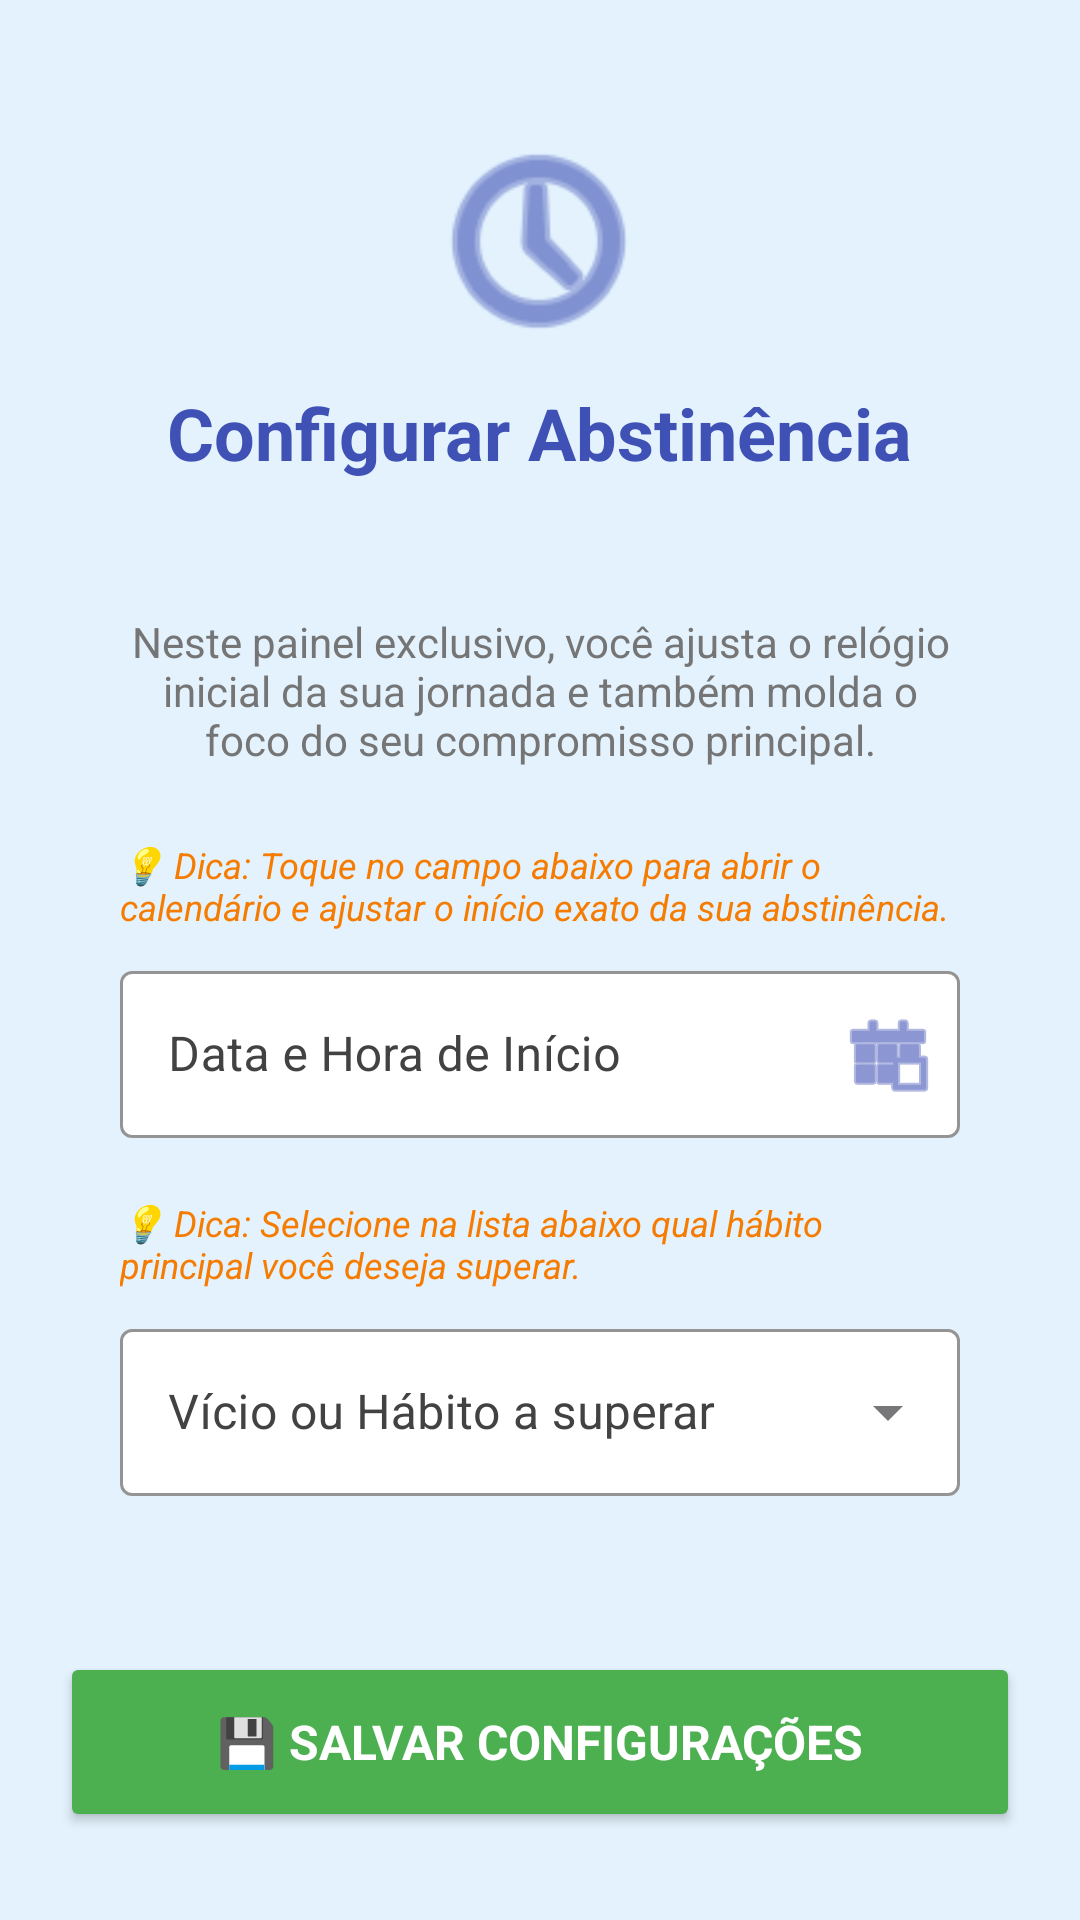

Where to tap for icons on this 1080px x 1920px app screen, as (x=x, y=y):
recent history: (x=539, y=241)
